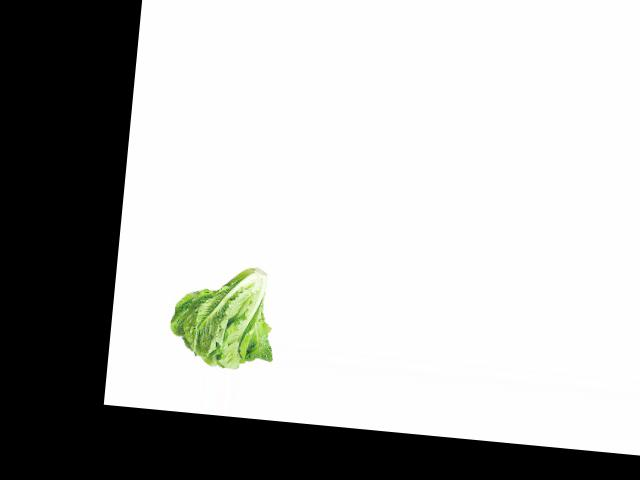lettuce: (165, 255, 279, 373)
